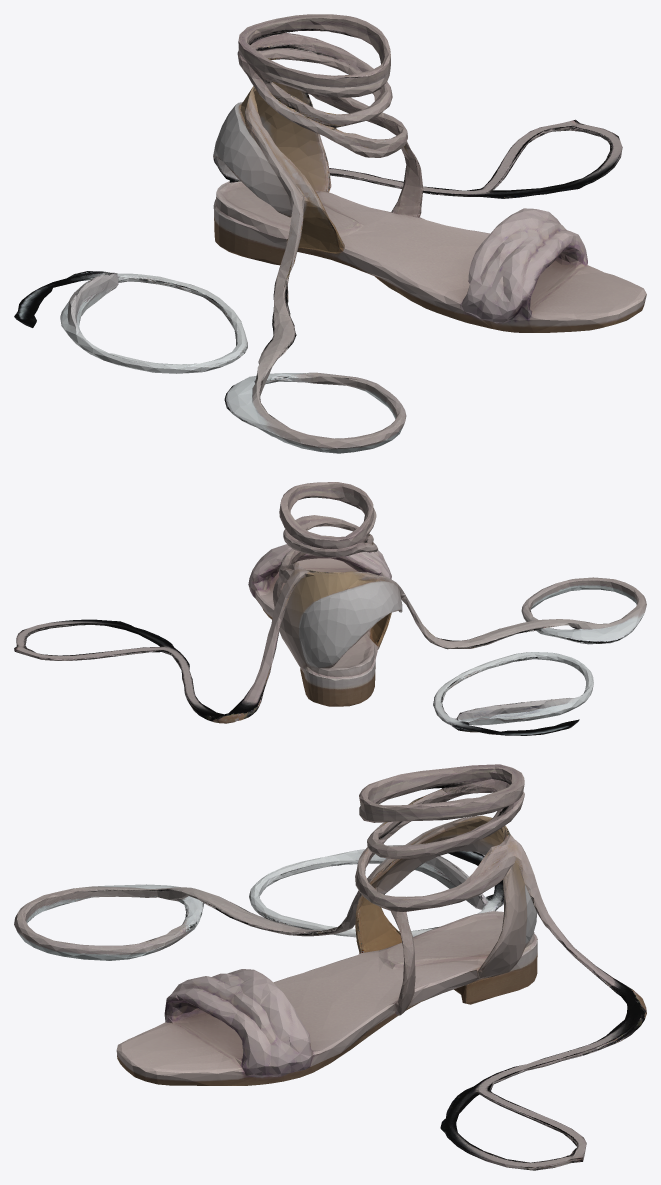
The picture shows the model from 3 angles, top to bottom: view 1: azimuth 30°, elevation 25°; view 2: azimuth 150°, elevation 25°; view 3: azimuth 270°, elevation 25°; orthographic projection. The views are drawn at different scales.
Visible parts, largest first — view 1: world; view 2: world; view 3: world.
Boxes of the visible parts, left/top/right/bottom form: world: left=14, top=14, right=646, bottom=453; world: left=14, top=482, right=646, bottom=735; world: left=14, top=764, right=646, bottom=1170.
Bounding box in the file's own units: 1 × 0.3341 × 0.8283.
1 material, 1 textured.
